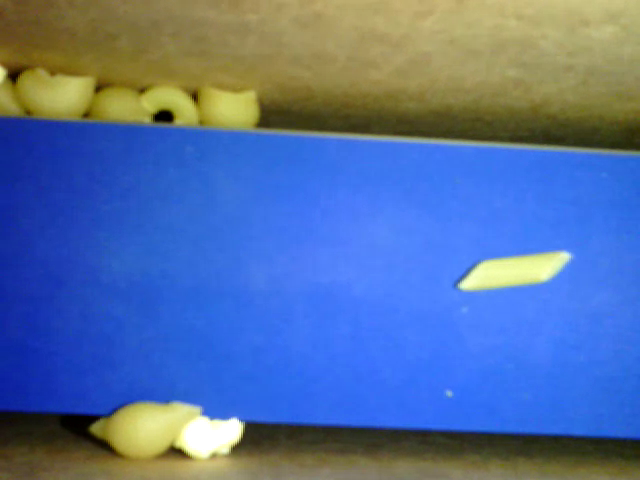elbow: (142, 82, 202, 125)
penne: (458, 247, 573, 290)
shell: (89, 395, 201, 457), (15, 66, 96, 118), (194, 78, 263, 129), (91, 87, 155, 120)
